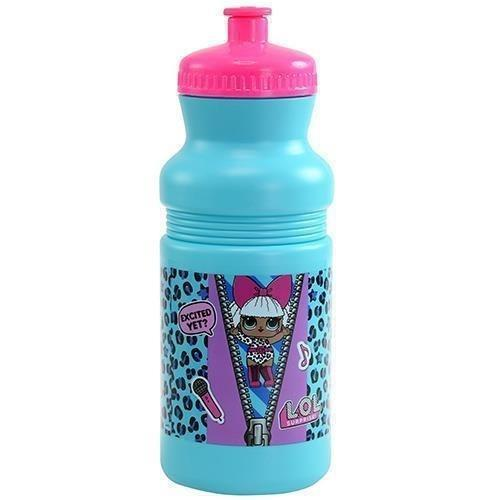gym bottle: (155, 0, 339, 499)
